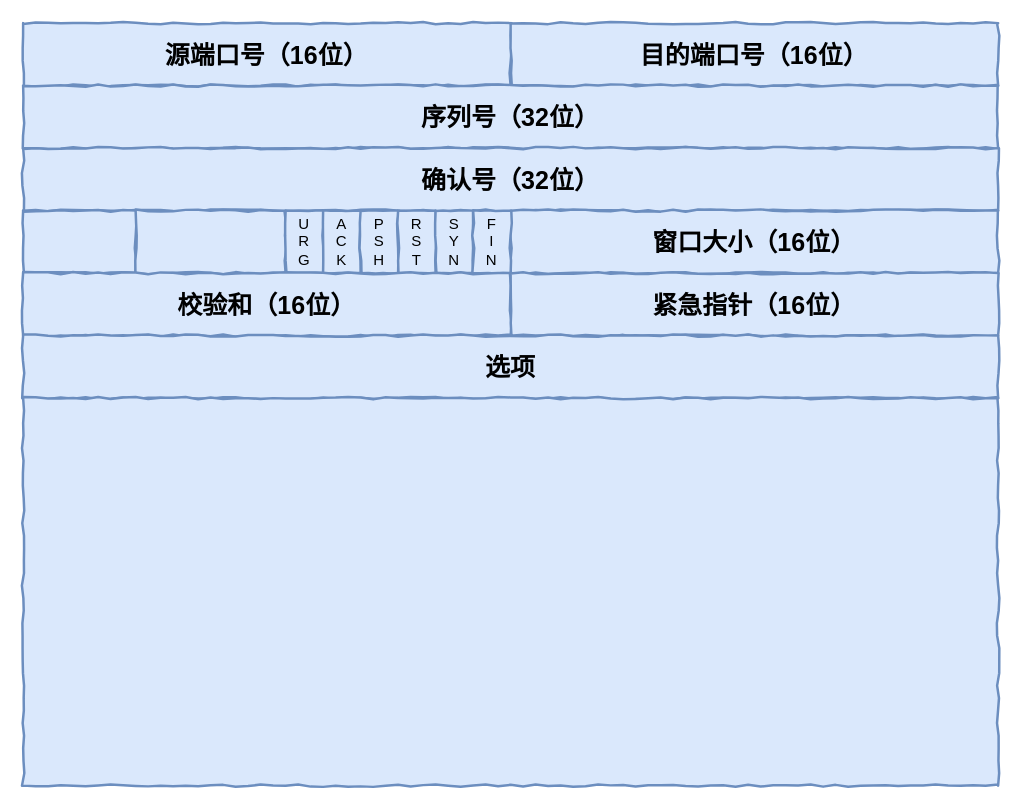
The diagram is 1020 pixels wide and 808 high, and some of its shapes have lost their labels. Each missing label, with the centre of its shape:
保留（6位）: point 210,241
数据: point 510,591
首部长度（4位）: point 78,241
